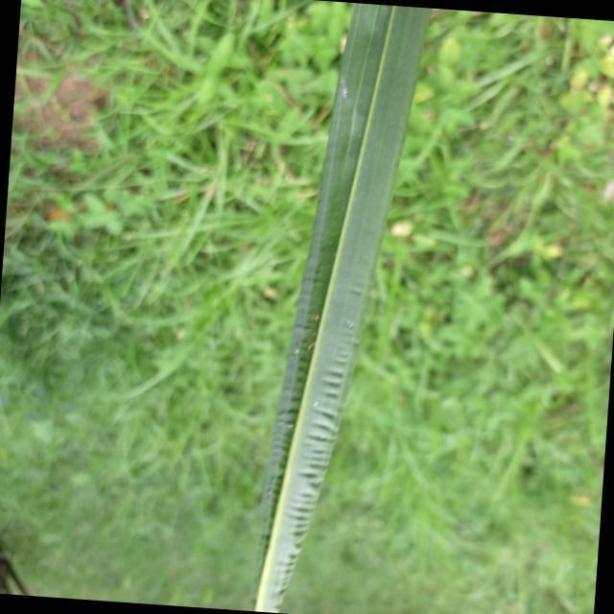Boron: (250, 0, 430, 614)
